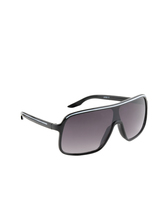glasses: (13, 92, 154, 157)
